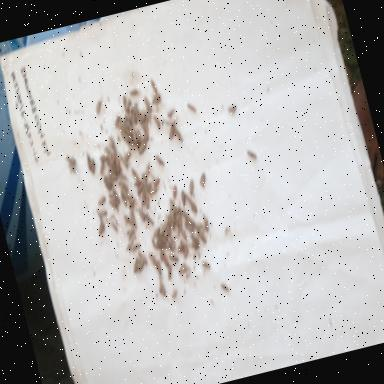pbw: (62, 146, 81, 178), (182, 94, 201, 121), (241, 138, 261, 162), (115, 124, 135, 148), (158, 216, 176, 242), (165, 196, 180, 226), (146, 225, 164, 250), (170, 120, 187, 146), (145, 73, 162, 99), (122, 222, 138, 248), (224, 100, 241, 124), (174, 238, 191, 262), (122, 190, 138, 215), (106, 188, 122, 213), (126, 163, 144, 185), (124, 204, 140, 228), (184, 176, 199, 201), (93, 213, 108, 238), (195, 226, 212, 248), (176, 185, 192, 208), (120, 92, 134, 118), (194, 169, 210, 191), (140, 188, 154, 213), (129, 255, 144, 278), (193, 255, 212, 273), (130, 104, 144, 128), (186, 193, 200, 217), (153, 152, 168, 174), (164, 119, 179, 141), (200, 211, 214, 234), (144, 178, 160, 198), (124, 82, 140, 102), (189, 232, 204, 253), (142, 92, 155, 116), (86, 154, 98, 180), (142, 206, 156, 228), (176, 260, 192, 278), (99, 173, 115, 191), (92, 98, 106, 118), (180, 212, 194, 232), (139, 124, 152, 145), (168, 181, 181, 202), (150, 93, 165, 111), (95, 188, 109, 207), (154, 258, 166, 280), (218, 278, 231, 298), (157, 282, 170, 302), (136, 138, 150, 156), (164, 104, 178, 122), (147, 248, 159, 269), (96, 155, 108, 175), (136, 186, 148, 206), (105, 166, 119, 182), (137, 248, 148, 268), (139, 170, 151, 188), (150, 174, 164, 189), (136, 207, 148, 224), (84, 152, 94, 172), (167, 248, 180, 263), (120, 148, 132, 164), (164, 264, 174, 282), (134, 258, 146, 272), (132, 182, 144, 196), (160, 253, 170, 269), (156, 248, 166, 264), (168, 288, 180, 300), (155, 282, 164, 295)
